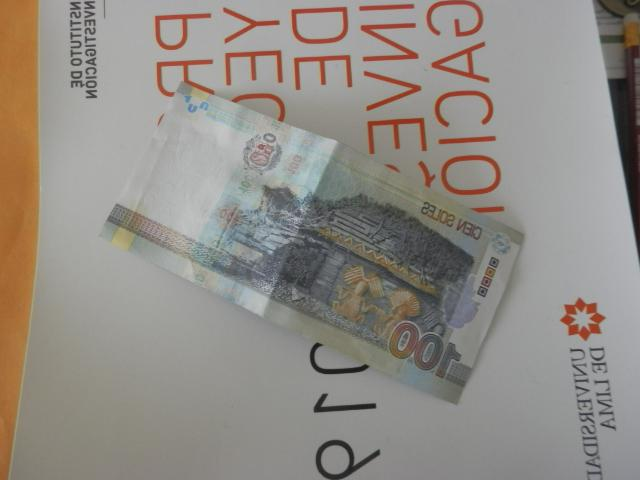B100: (96, 81, 524, 403)
